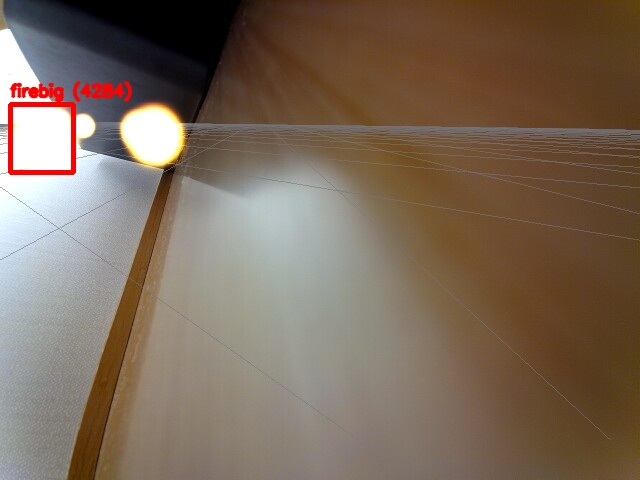firebig: (10, 104, 73, 172)
